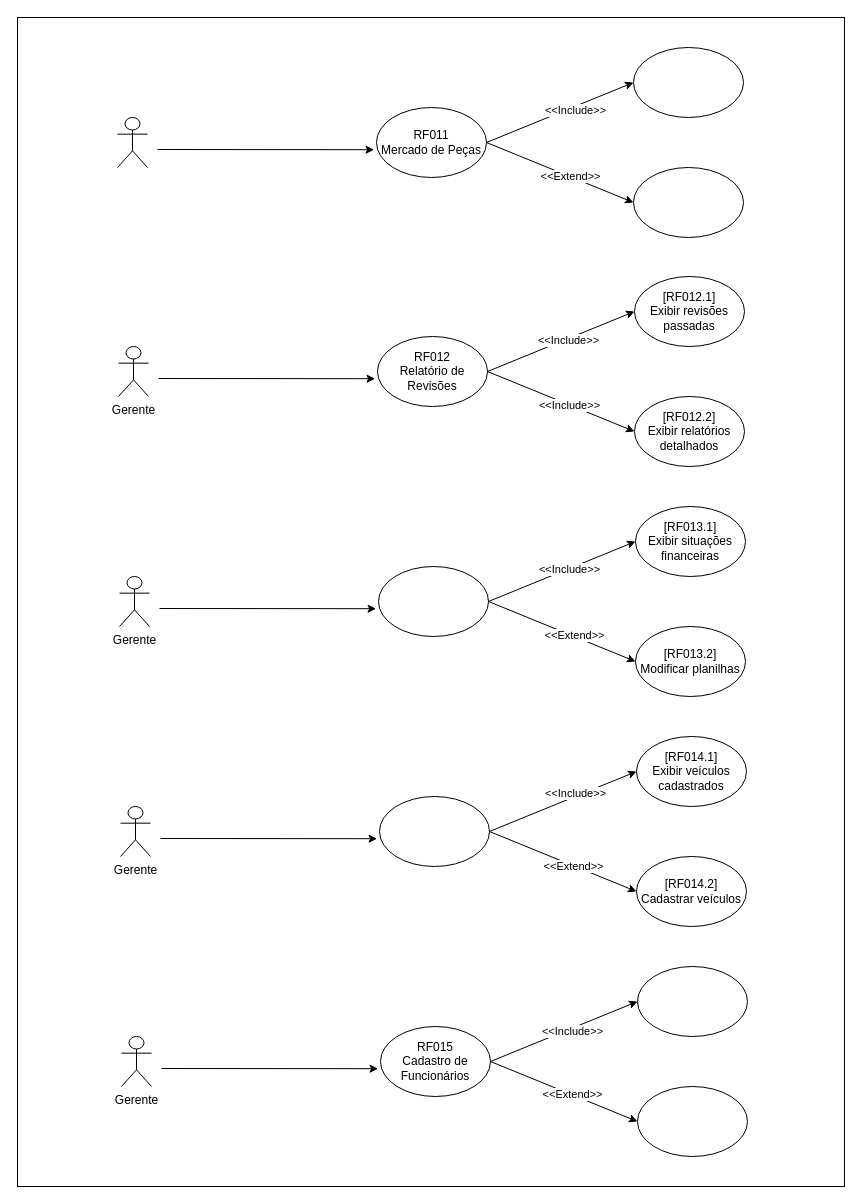
Some shapes in this 862 by 1204 pixel diagram are drawn without their labels. The shapes that lost their labels are listed below. From the top down, each one's box as (x1, y1, x2, y2) in pixels, then its label:
(632, 46, 744, 118): [RF011.1] Exibir catálogo de componentes
(116, 116, 148, 168): Mecânico
(632, 166, 744, 238): [RF011.2] Comprar componente
(378, 566, 488, 636): RF013 Controle Financeiro
(378, 796, 490, 866): RF014 Cadastro de Veículos
(636, 966, 748, 1036): [RF015.1] Exibir funcionários cadastrados
(636, 1086, 748, 1156): [RF015.2] Cadastrar funcionários
